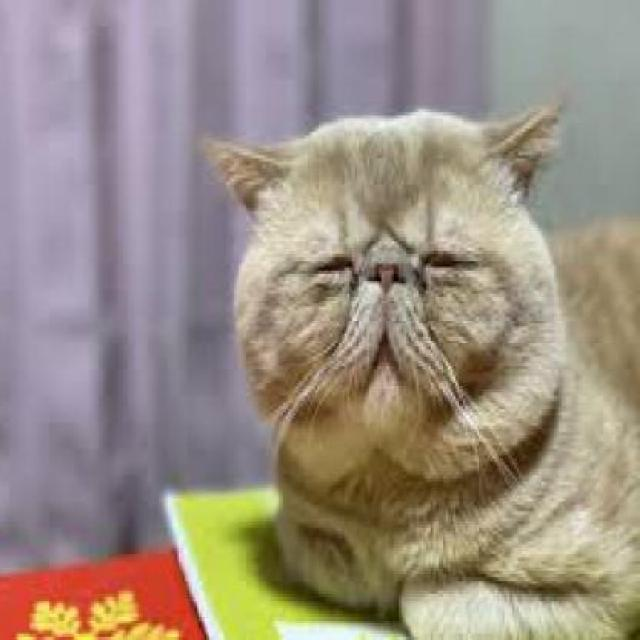Not_a_Chicken: (186, 87, 627, 619)
